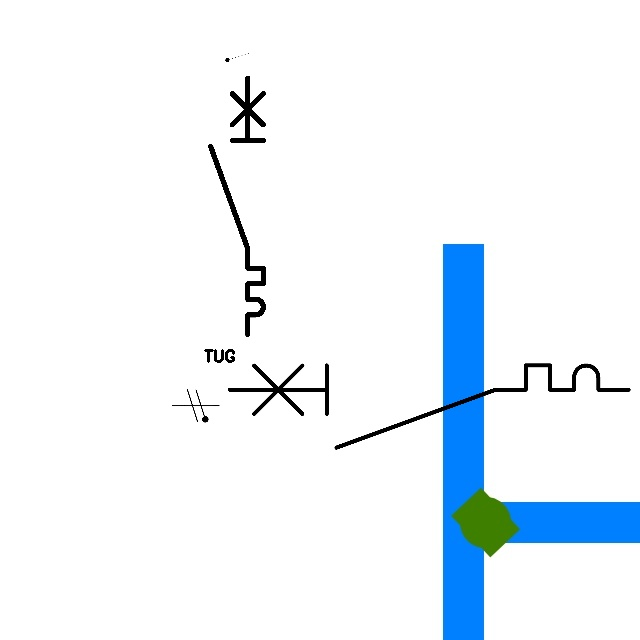interruptor_termomagnetico: (219, 355, 638, 457), (204, 71, 270, 341)
